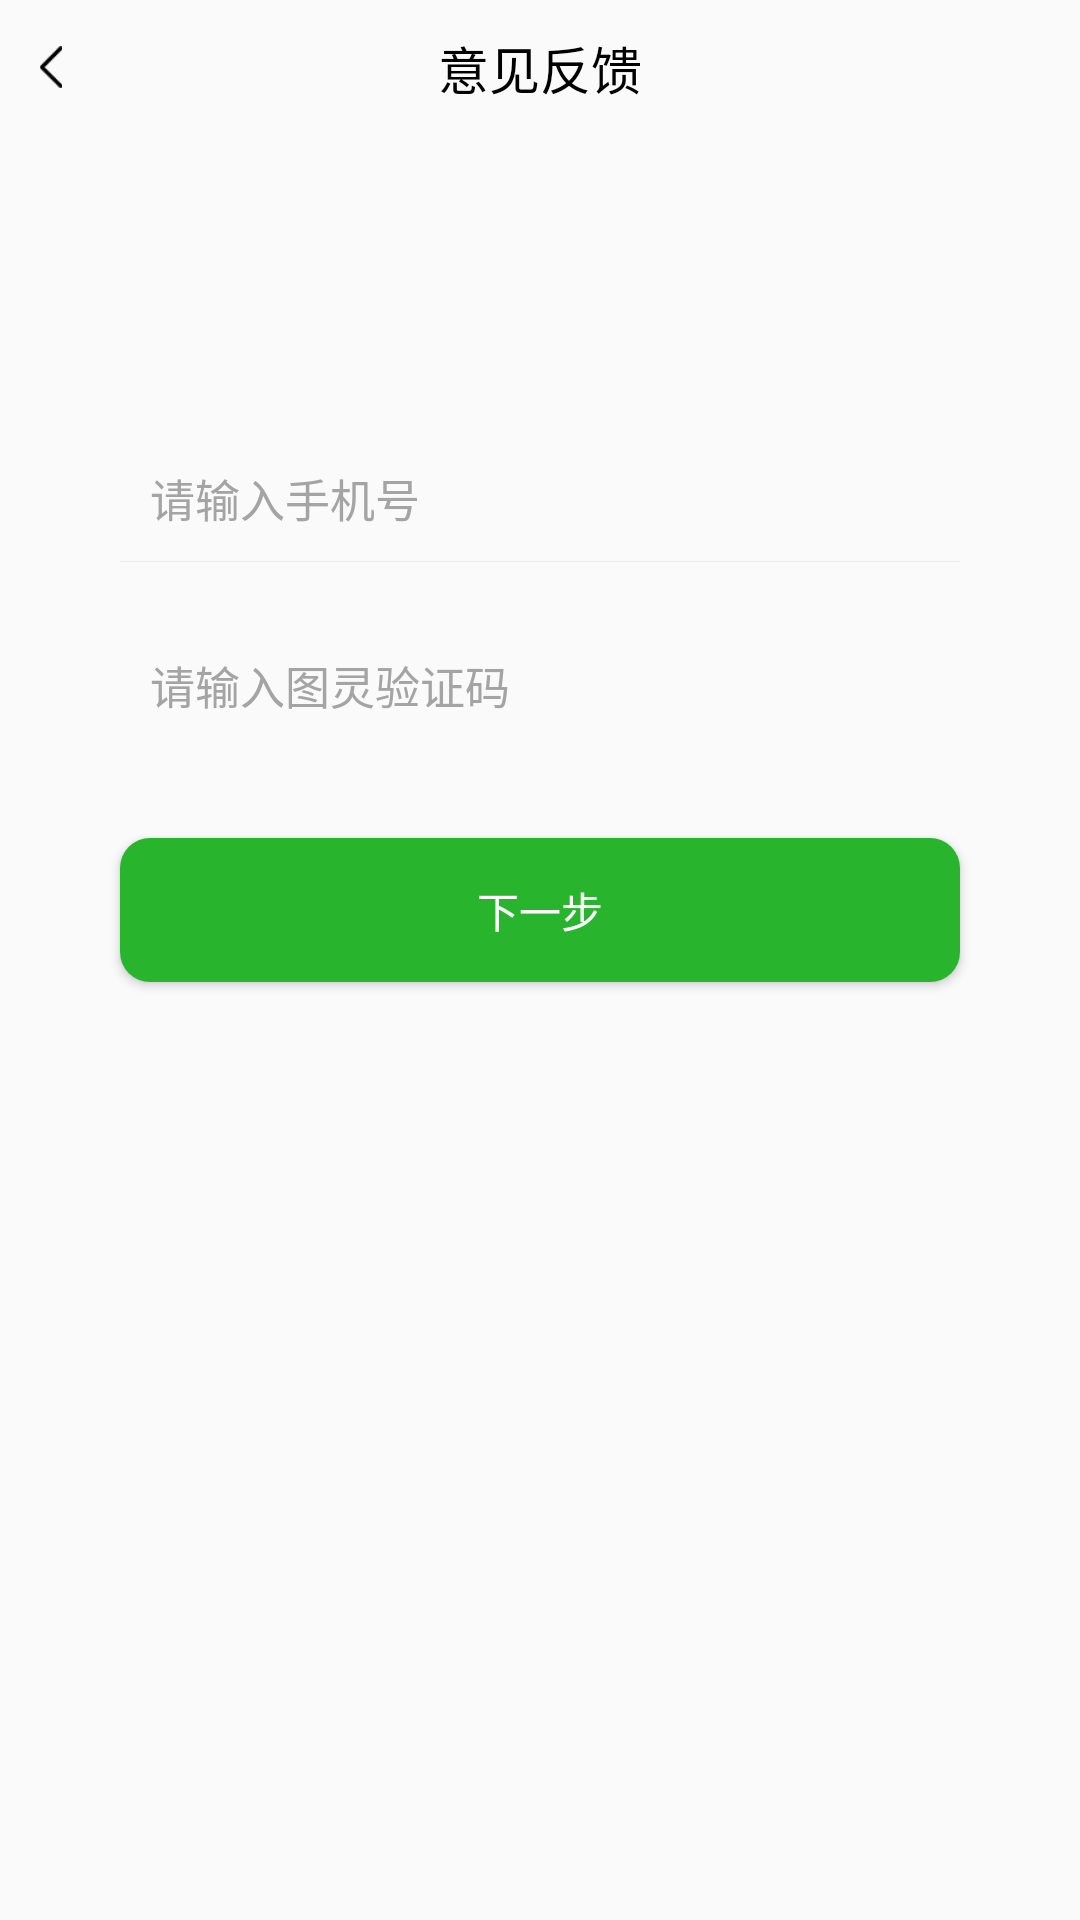

Named icons in this screenshot (1080 × 1920) and their bounding boxes, {"left": x1, "top": y1, "right": x2, "bottom": y2}:
back: {"left": 40, "top": 46, "right": 62, "bottom": 88}
